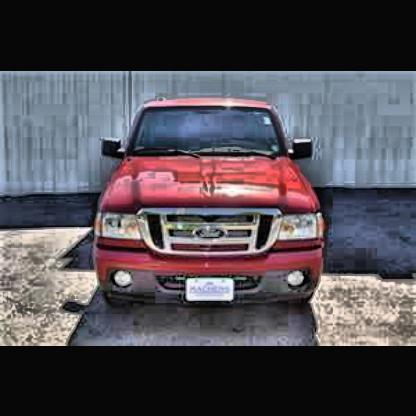Ford Ranger SuperCab 2011: (93, 96, 330, 327)
